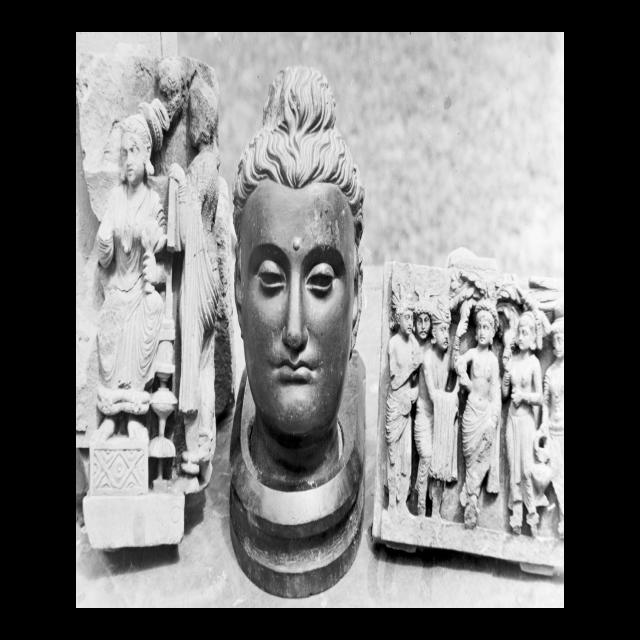buddha-sitting: (230, 67, 365, 598), (96, 98, 170, 413)
buddha-standing: (456, 298, 502, 529)
